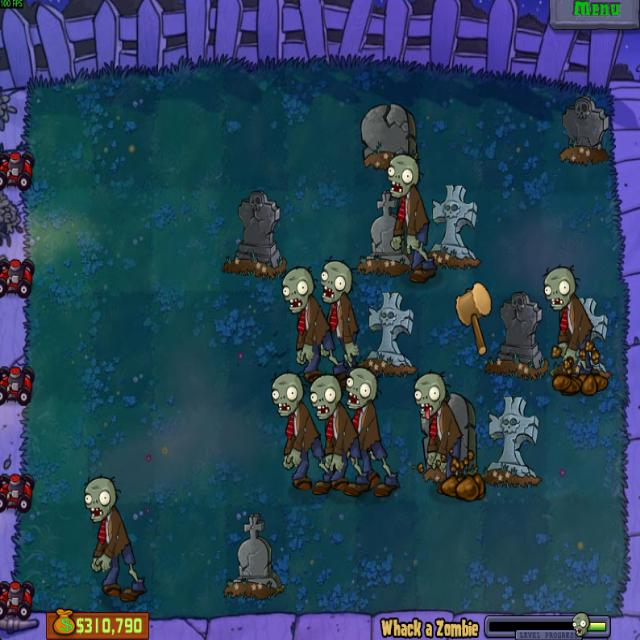grave: (482, 288, 550, 378), (222, 188, 288, 279), (480, 394, 542, 488), (418, 392, 479, 487), (359, 282, 416, 378), (422, 181, 482, 269), (226, 510, 284, 600), (554, 296, 612, 386), (357, 189, 413, 276), (357, 99, 420, 173), (556, 93, 611, 166)
zombie: (81, 474, 119, 525), (541, 262, 578, 314), (268, 370, 306, 420), (412, 370, 448, 421), (278, 266, 316, 314), (317, 257, 354, 305), (384, 152, 422, 198), (307, 373, 342, 420), (344, 366, 379, 412)
